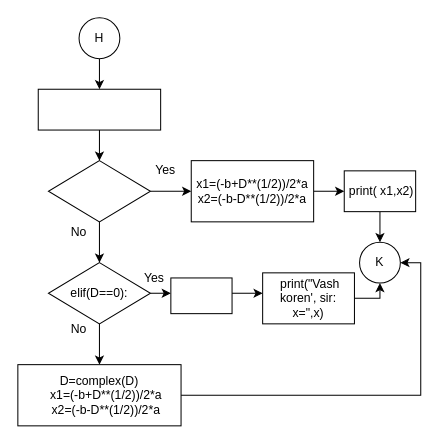
The diagram is 447 pixels wide and 444 high, and some of its shapes have lost their labels. The shapes that lost their labels are listed below. From the top down, each one's centre as x and y in pixels, then its label:
the point at 99,109: D=b**2-4*a*c
the point at 98,191: if(D>0)
the point at 201,295: x=-b/2*a
